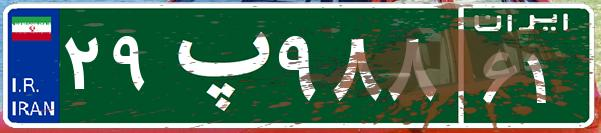1: (525, 38, 570, 115)
2: (57, 26, 110, 107)
6: (475, 38, 525, 113)
8: (385, 28, 445, 110), (330, 28, 385, 110)
9: (273, 28, 330, 110), (110, 28, 158, 105)
پ: (158, 15, 273, 115)
